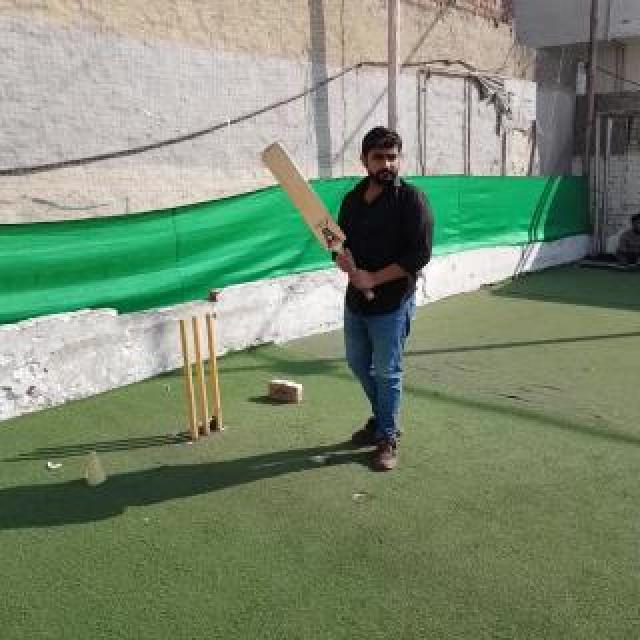bat: (262, 142, 374, 300)
